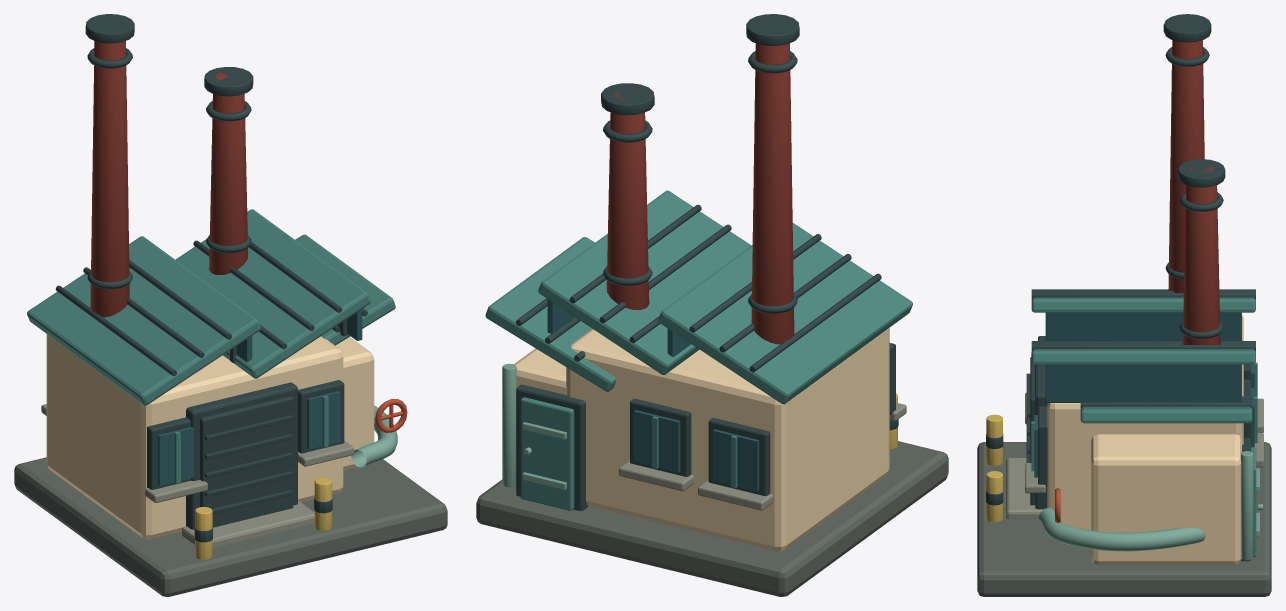
Rendered from factory.glb.
The picture shows the model from 3 angles, left to right: view 1: azimuth 30°, elevation 25°; view 2: azimuth 150°, elevation 25°; view 3: azimuth 270°, elevation 25°; orthographic projection. The views are drawn at different scales.
Parts seen in each view (by area): view 1: factory · copper, factory · plaster, factory · metal, factory · stone_dark, factory · tile_dark, factory · stone, factory · window, factory · crop, factory · copper_light, factory · tile; view 2: factory · copper, factory · plaster, factory · stone_dark, factory · tile_dark, factory · metal, factory · window, factory · copper_light, factory · stone; view 3: factory · plaster, factory · stone_dark, factory · window, factory · metal, factory · tile_dark, factory · copper, factory · copper_light, factory · stone, factory · crop.
Boxes of the visible parts, <box> form: factory · copper: <box>27,209,395,483</box>; factory · plaster: <box>46,334,374,539</box>; factory · metal: <box>55,14,367,542</box>; factory · stone_dark: <box>14,457,447,596</box>; factory · tile_dark: <box>90,41,248,317</box>; factory · stone: <box>41,404,354,547</box>; factory · window: <box>158,309,362,485</box>; factory · crop: <box>195,477,332,559</box>; factory · copper_light: <box>351,405,397,467</box>; factory · tile: <box>375,399,407,432</box>; factory · copper: <box>485,190,912,510</box>; factory · plaster: <box>514,328,889,551</box>; factory · stone_dark: <box>476,441,948,596</box>; factory · tile_dark: <box>606,43,794,344</box>; factory · metal: <box>515,14,898,510</box>; factory · window: <box>547,299,759,491</box>; factory · copper_light: <box>502,363,566,489</box>; factory · stone: <box>619,402,906,510</box>; factory · plaster: <box>1047,315,1243,564</box>; factory · stone_dark: <box>977,442,1271,596</box>; factory · window: <box>1034,312,1254,477</box>; factory · metal: <box>986,14,1255,561</box>; factory · tile_dark: <box>1168,40,1220,344</box>; factory · copper: <box>1031,297,1257,557</box>; factory · copper_light: <box>1038,451,1263,560</box>; factory · stone: <box>1006,392,1263,519</box>; factory · crop: <box>986,414,1002,522</box>.
Bounding box in the file's own units: 0.935 × 1.47 × 0.84.
